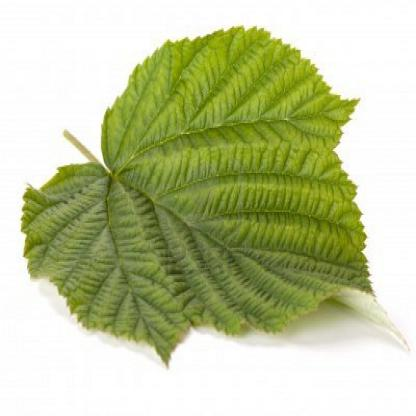raspberry leaf: (19, 22, 379, 361)
